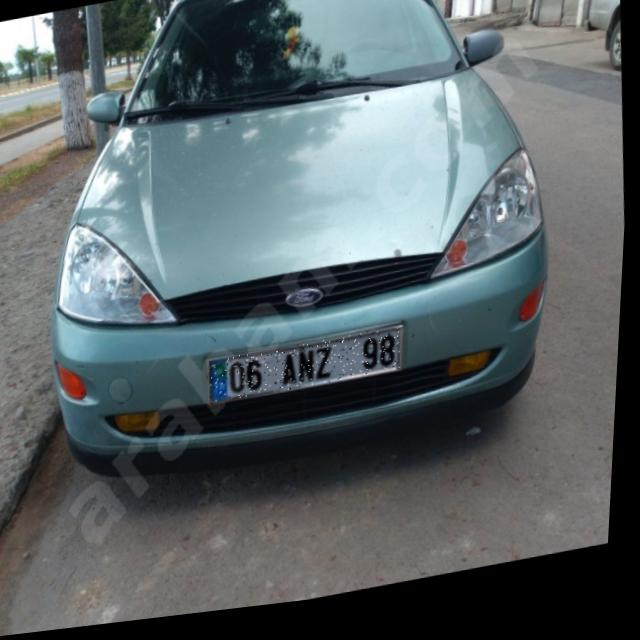license_plate: (211, 335, 407, 410)
